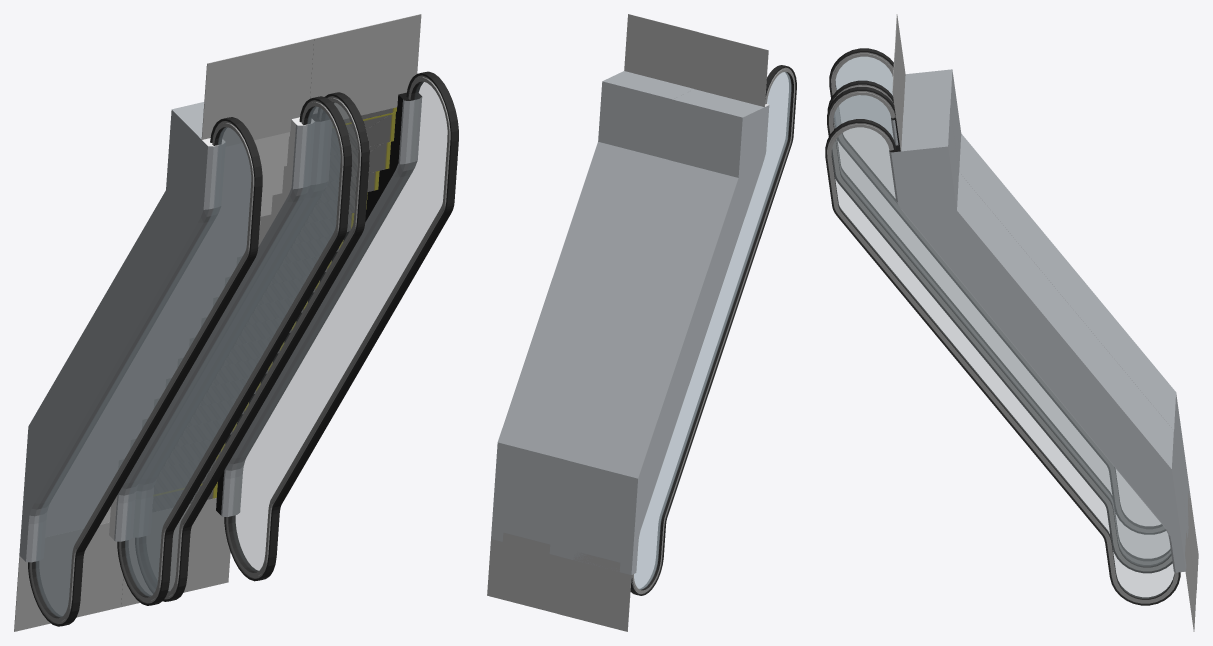
File: Thang cuốn-bộ.glb
The picture shows the model from 3 angles, left to right: view 1: azimuth 30°, elevation 25°; view 2: azimuth 150°, elevation 25°; view 3: azimuth 270°, elevation 25°; orthographic projection. The views are drawn at different scales.
Visible parts, largest first — view 1: world; view 2: world; view 3: world.
Boxes of the visible parts, box(x1,y1,x2,y2) form: world: box(14, 14, 458, 631); world: box(487, 14, 796, 631); world: box(825, 14, 1198, 631).
Size of the model in its own units: 267 by 836 by 526.
10 materials, 1 textured.
